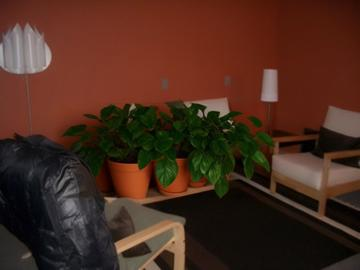chair: (6, 135, 186, 270), (270, 104, 360, 213)
pottedplant: (56, 103, 277, 197)
